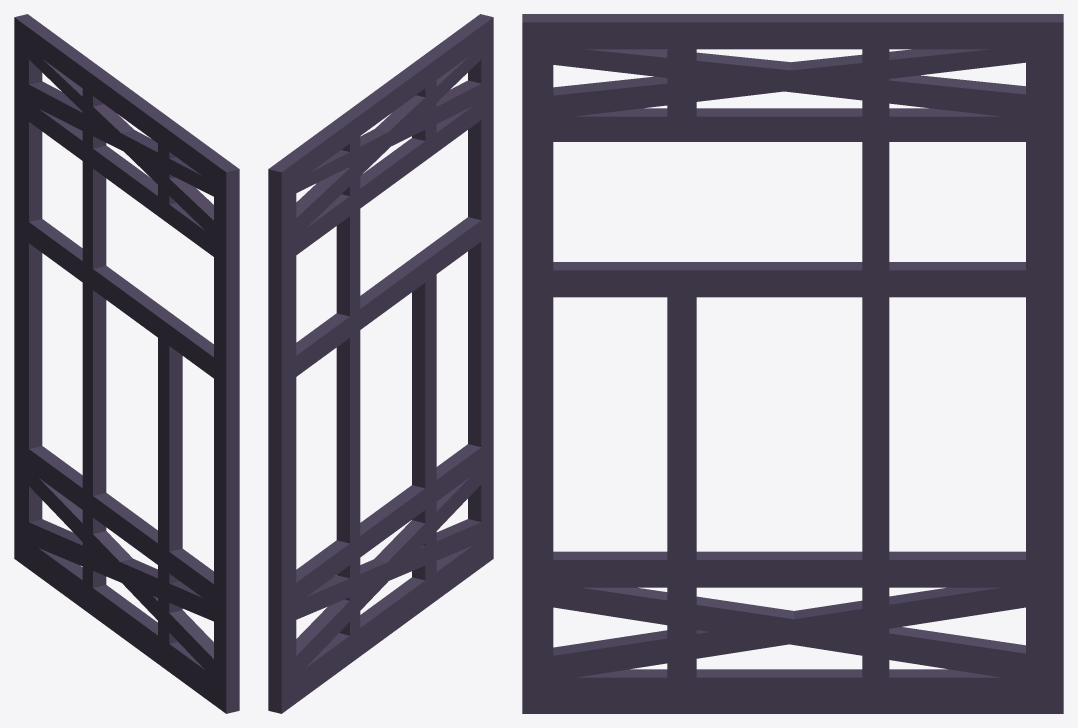
The model's file is LongFrame1.fbx.
3 renders of one model, left to right at view 1: azimuth 30°, elevation 25°; view 2: azimuth 150°, elevation 25°; view 3: azimuth 270°, elevation 25°, orthographic. The views are drawn at different scales.
Parts seen in each view (by area): view 1: LongFrame1; view 2: LongFrame1; view 3: LongFrame1.
Boxes of the visible parts, bbox=[...] form: LongFrame1: bbox=[14, 14, 239, 713]; LongFrame1: bbox=[268, 14, 493, 713]; LongFrame1: bbox=[522, 14, 1063, 713].
Bounding box in the file's own units: 4.28 × 166 × 118.
